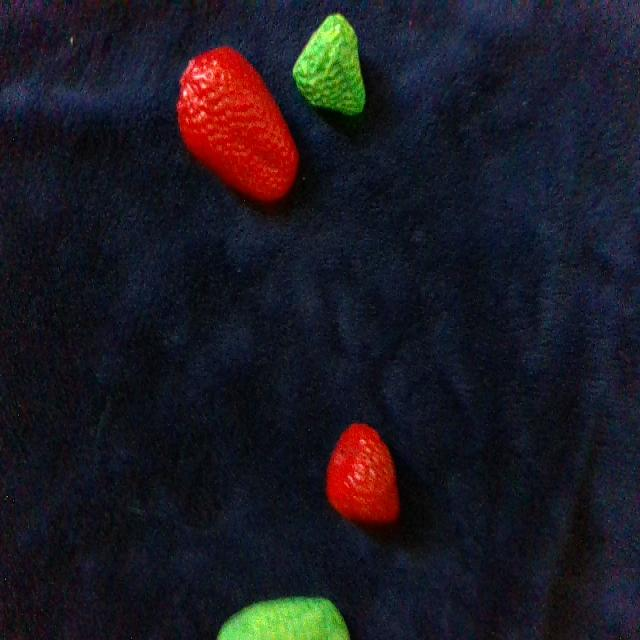chica_roja: (327, 424, 398, 523)
grande_roja: (178, 47, 297, 200)
verde: (293, 13, 365, 115), (217, 597, 349, 639)
